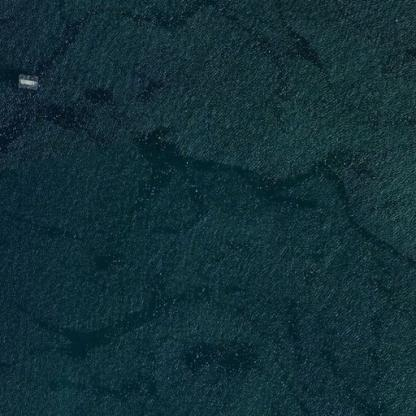ship: (14, 71, 40, 92)
